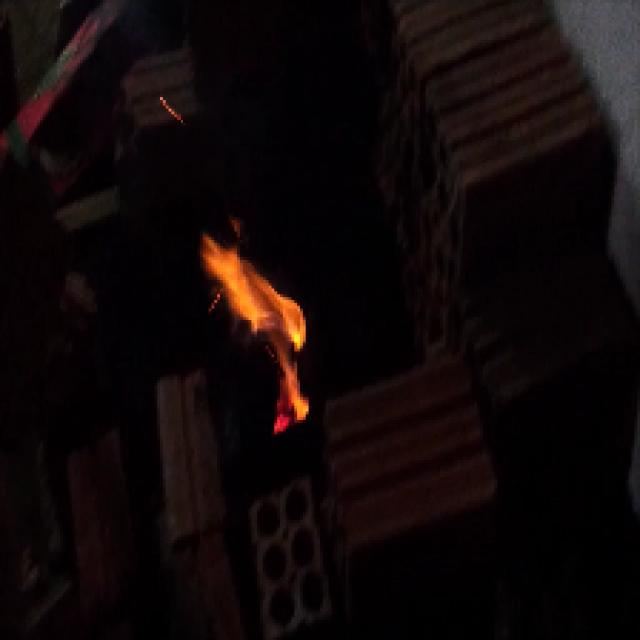fire: (204, 231, 312, 428)
